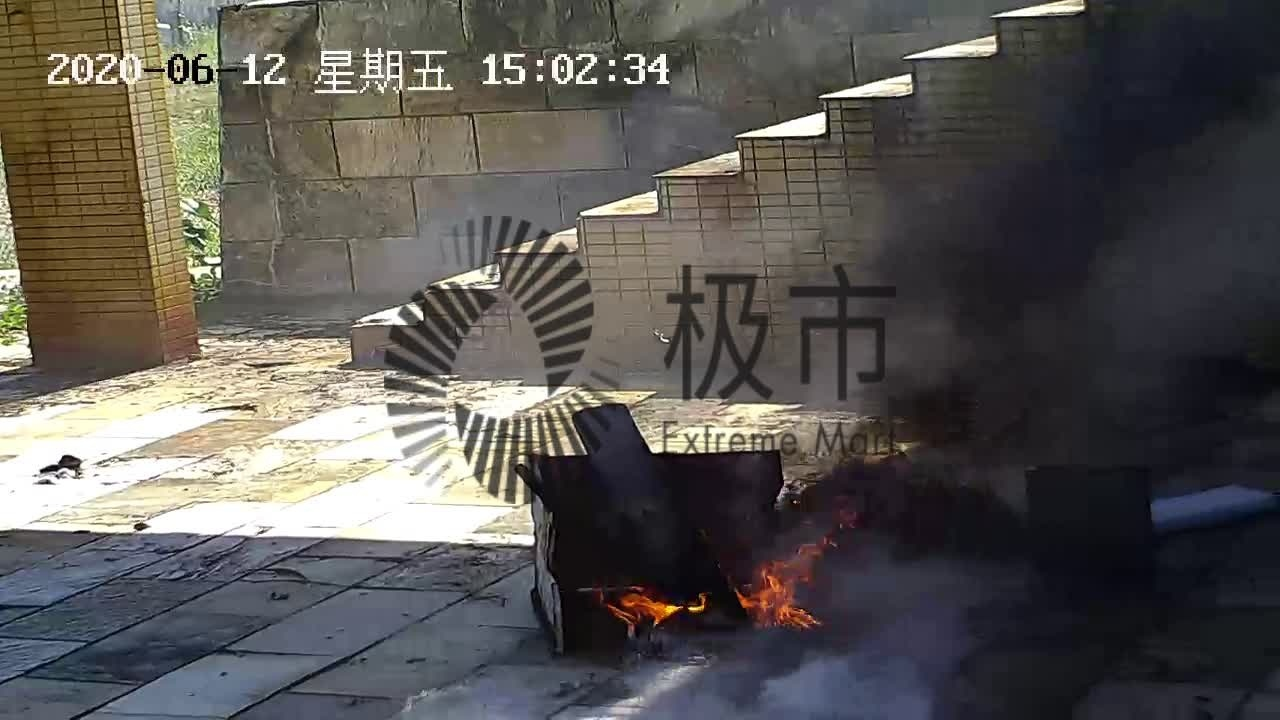fire: (732, 523, 836, 633), (598, 570, 711, 639)
